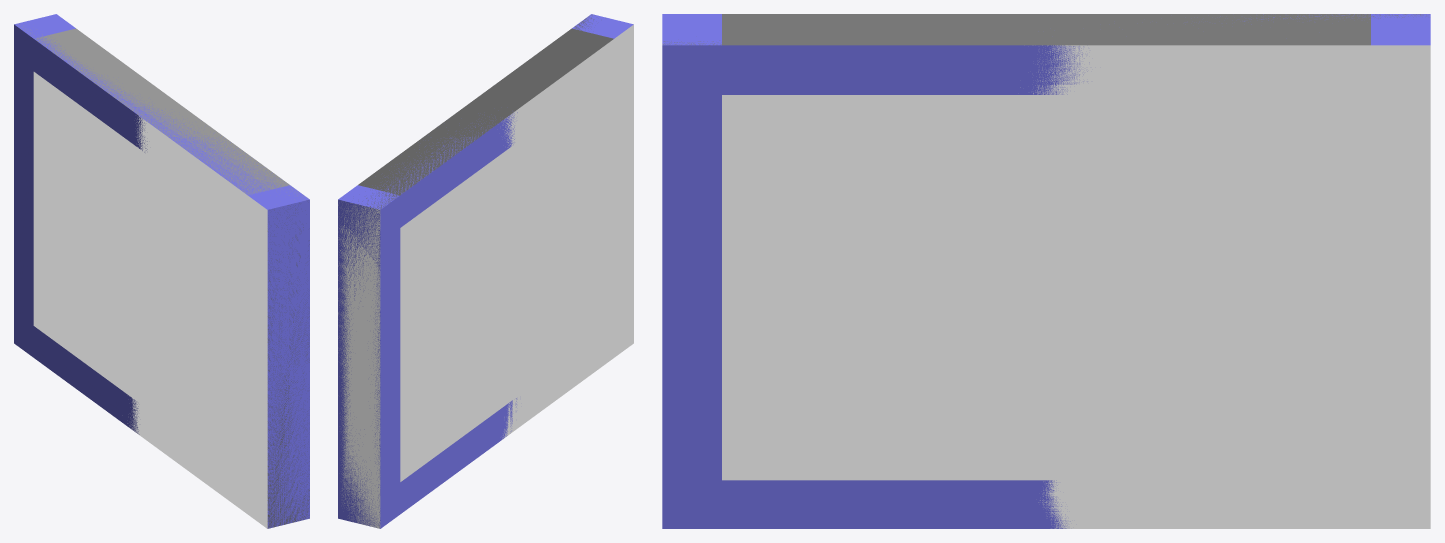
The model's file is SM_Dummy_Window.fbx.
3 views of the same model, side by side, from view 1: azimuth 30°, elevation 25°; view 2: azimuth 150°, elevation 25°; view 3: azimuth 270°, elevation 25° (orthographic). The views are drawn at different scales.
Visible parts, largest first — view 1: SM_Dummy_Window_ConvexHulls, SM_Dummy_Window; view 2: SM_Dummy_Window_ConvexHulls, SM_Dummy_Window; view 3: SM_Dummy_Window_ConvexHulls, SM_Dummy_Window.
Part boxes in pixels (x1=…): SM_Dummy_Window_ConvexHulls: x1=15, y1=24, x2=309, y2=528; SM_Dummy_Window: x1=14, y1=14, x2=309, y2=528; SM_Dummy_Window_ConvexHulls: x1=338, y1=14, x2=633, y2=528; SM_Dummy_Window: x1=338, y1=14, x2=633, y2=528; SM_Dummy_Window_ConvexHulls: x1=662, y1=14, x2=1430, y2=528; SM_Dummy_Window: x1=662, y1=14, x2=1430, y2=528.
Size of the model in its own units: 15.83 by 164 by 114.
2 materials, 1 textured.
